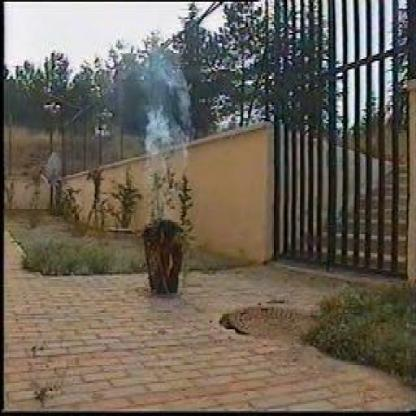-: (134, 61, 192, 157)
